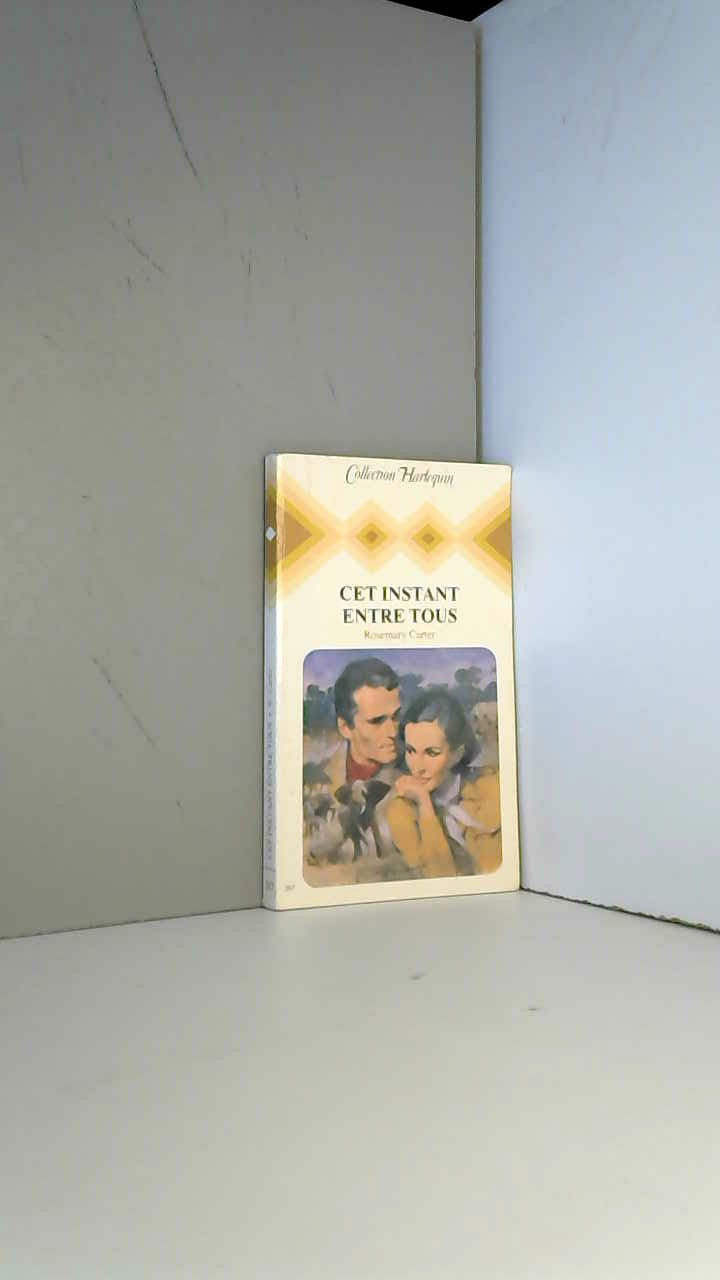book: (227, 415, 561, 951)
